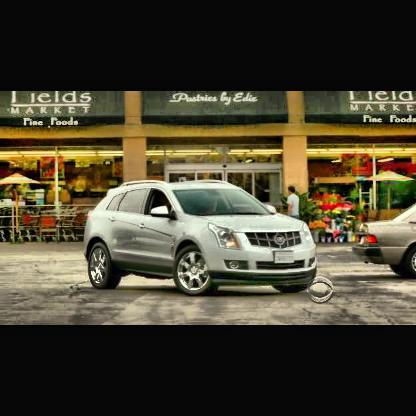Cadillac SRX SUV 2012: (84, 180, 318, 296)
